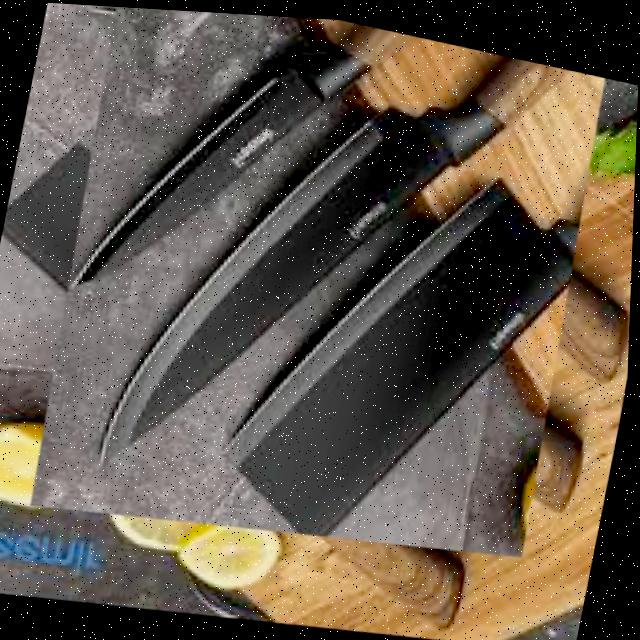knife: (95, 5, 574, 547), (215, 125, 590, 575), (68, 4, 396, 346)
